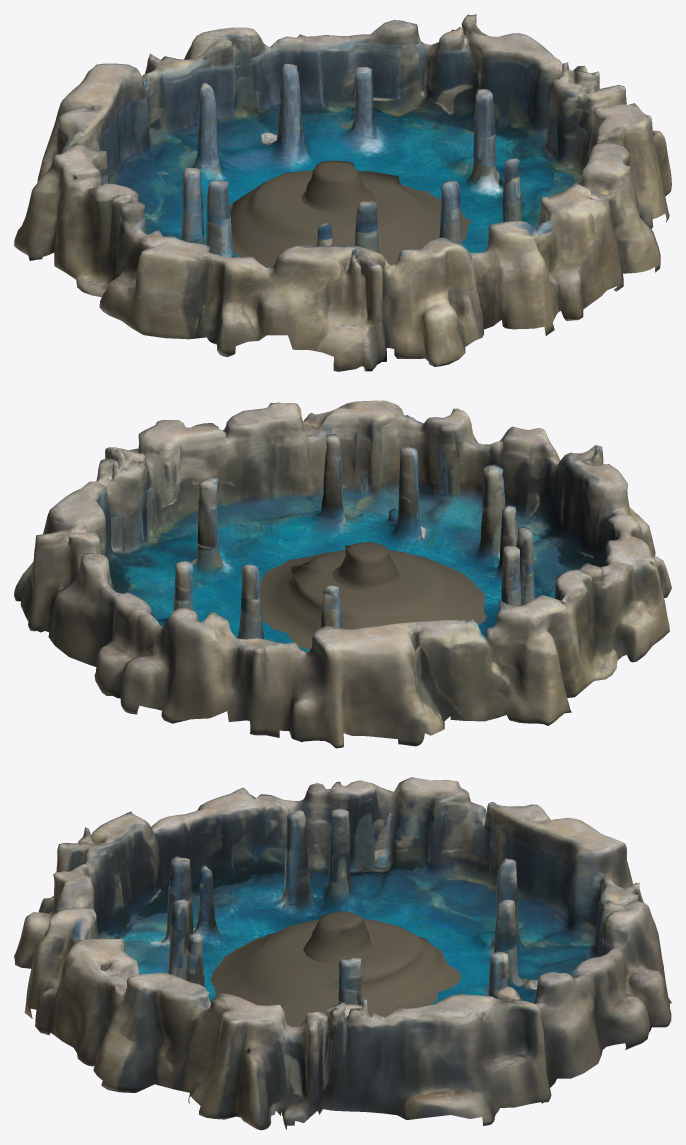
The model's file is water-arena.comp.glb.
The picture shows the model from 3 angles, top to bottom: view 1: azimuth 30°, elevation 25°; view 2: azimuth 150°, elevation 25°; view 3: azimuth 270°, elevation 25°; orthographic projection. The views are drawn at different scales.
Parts seen in each view (by area): view 1: WaterArena; view 2: WaterArena; view 3: WaterArena.
Boxes of the visible parts, x1,y1,x2,y2 form: WaterArena: [14, 14, 671, 371]; WaterArena: [14, 400, 671, 748]; WaterArena: [14, 777, 671, 1130].
Size of the model in its own units: 43.54 by 7.95 by 44.31.
1 material, 1 textured.
